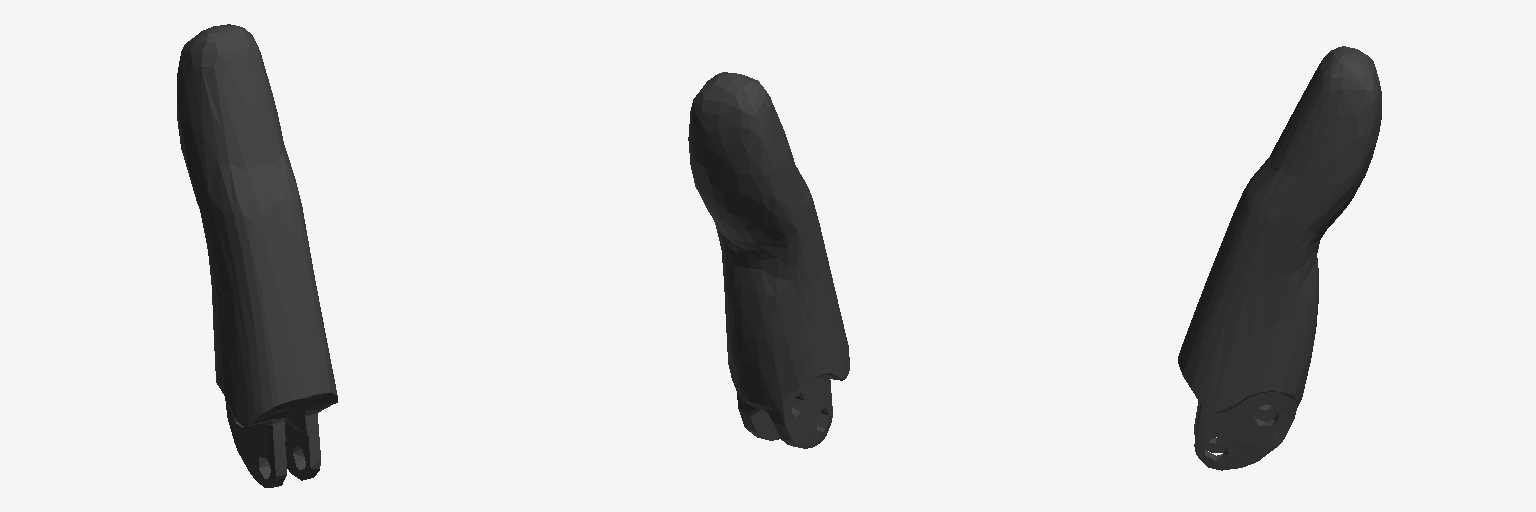
The model's file is L_ring_distal.obj.
3 renders of one model, left to right at view 1: azimuth 30°, elevation 25°; view 2: azimuth 150°, elevation 25°; view 3: azimuth 270°, elevation 25°, orthographic.
Bounding box in the file's own units: 0.0126 × 0.0512 × 0.0233.